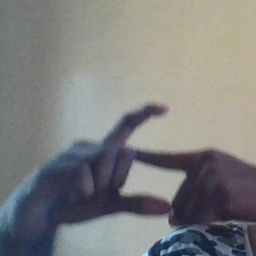E: (98, 99, 195, 221)
